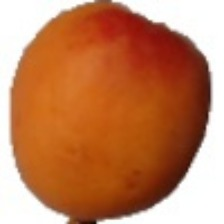apricot: (48, 37, 202, 195)
